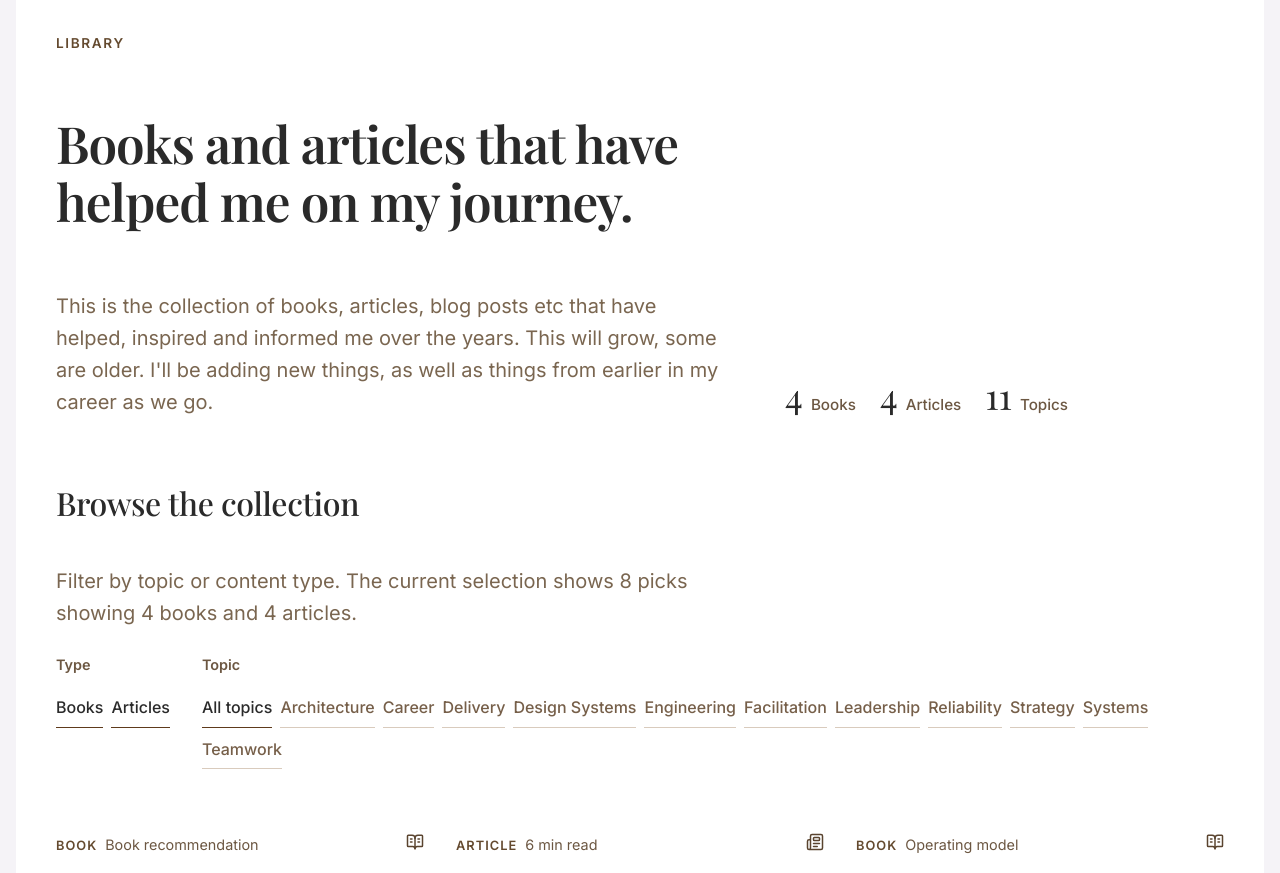
topic filters still narrow the mixed collection across both types
Click the button "Leadership" at (878, 711), box [835,694,920,728]
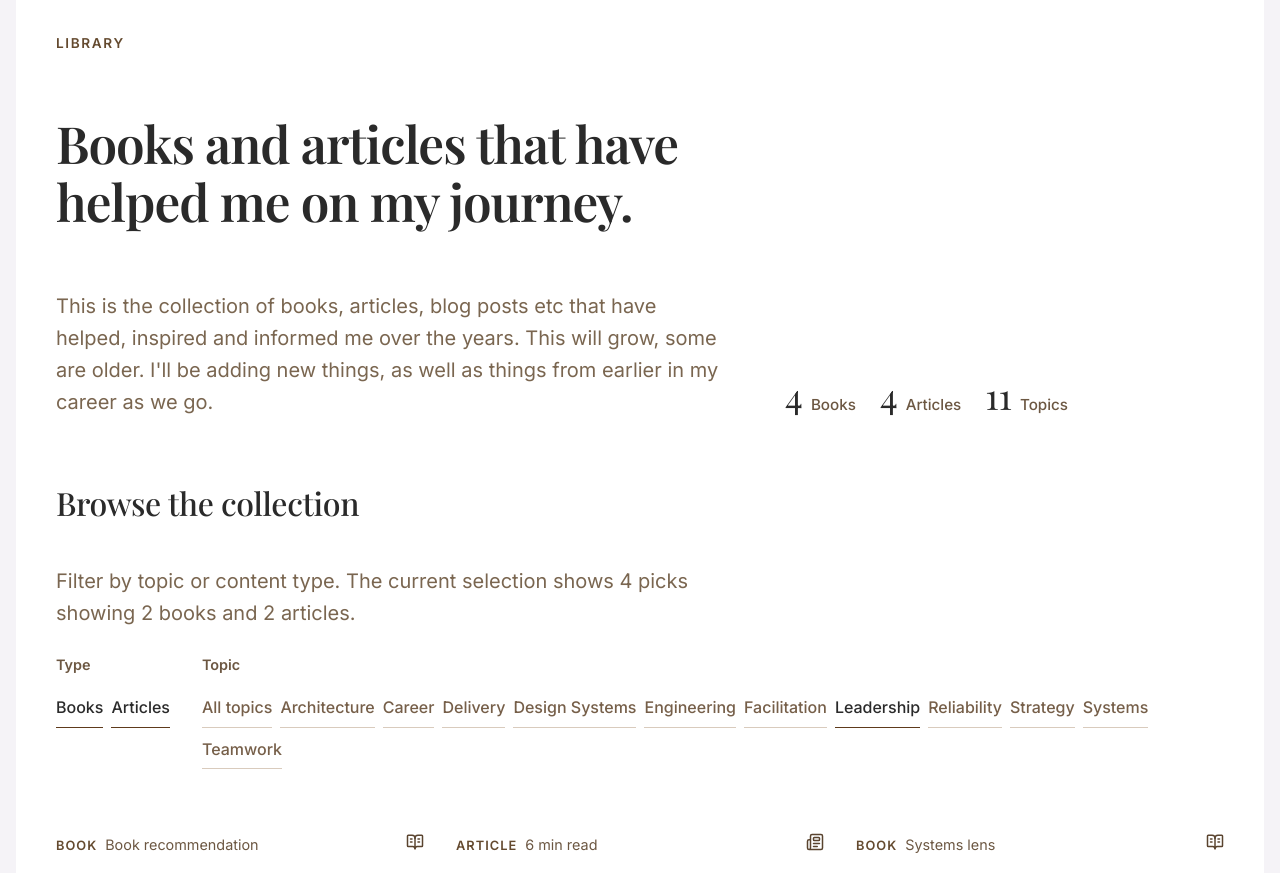
Expected: the text "4 picks showing 2 books and 2 articles" is shown, [56,569,688,625]
